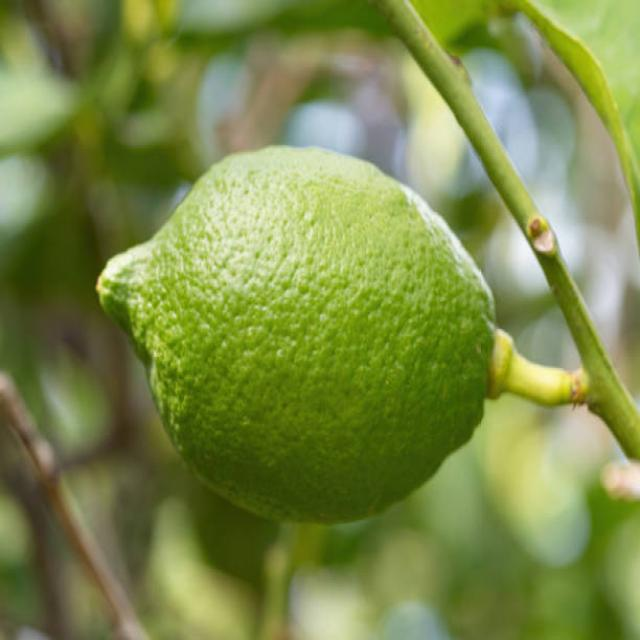Unripe: (94, 147, 496, 527)
